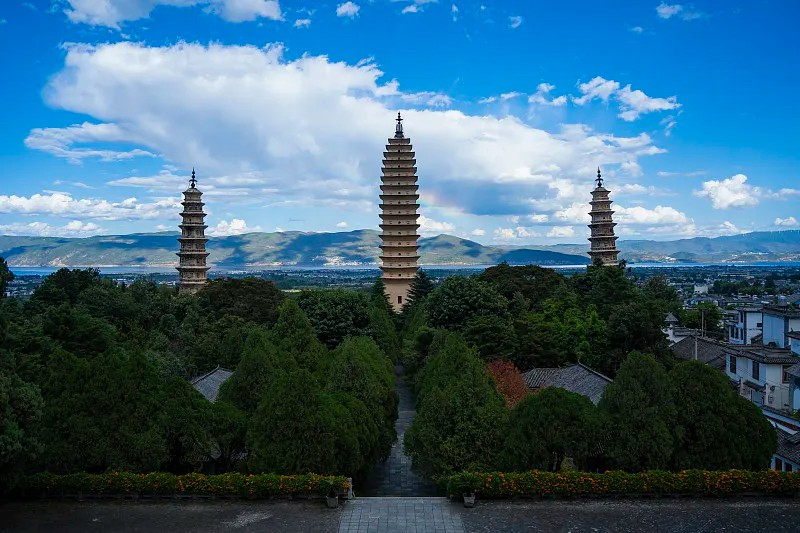ThreePagoda: (379, 110, 420, 314)
